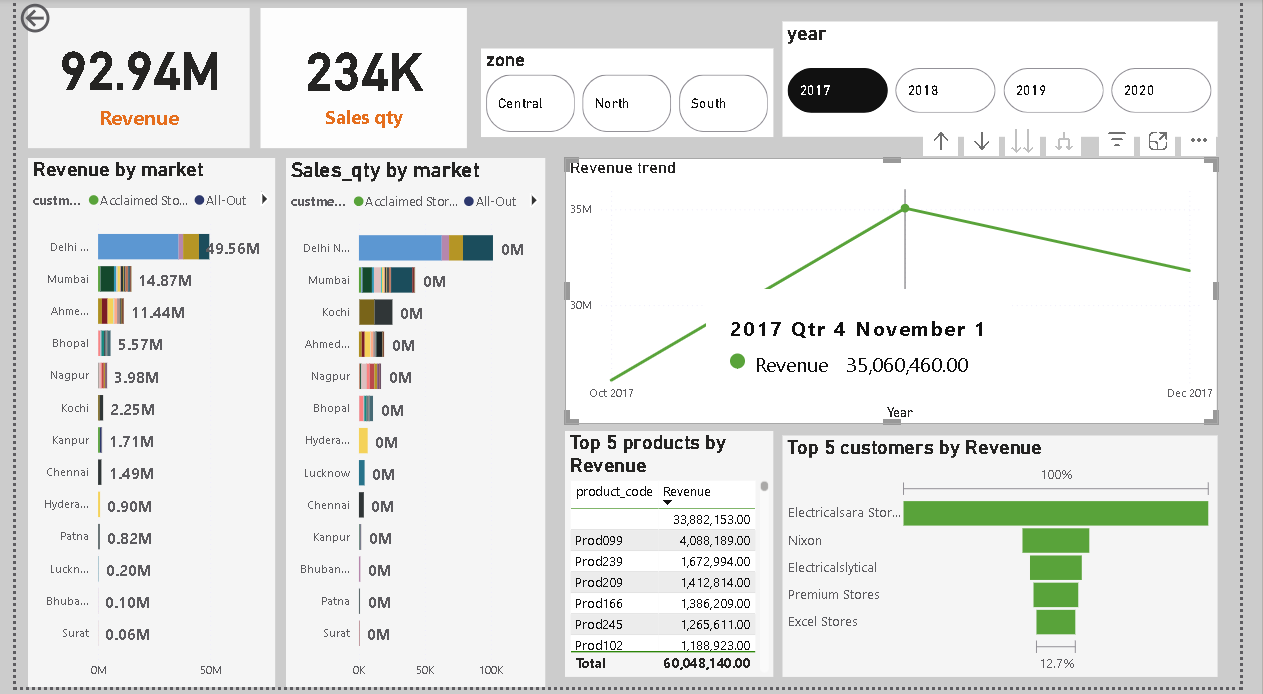

Layout of this report page (visuals, bound fields, positions):
{"tool":"powerbi","page":{"name":"Page 1","canvas":[1280,720],"ordinal":0},"visuals":[{"type":"card","fields":{"Values":["basemeasures.Revenue"]},"box":[12.6,9.5,232.1,146.8],"z":0},{"type":"card","fields":{"Values":["basemeasures.Sales qty"]},"box":[255.8,9.5,216.3,146.8],"z":1000},{"type":"barChart","title":"Revenue by market","fields":{"Y":["basemeasures.Revenue"],"Category":["sales markets.markets_name"],"Series":["sales customers.custmer_name"]},"box":[12.6,165.8,259,554.2],"z":2000},{"type":"barChart","title":"Sales_qty by market","fields":{"Category":["sales markets.markets_name"],"Series":["sales customers.custmer_name"],"Y":["Sum(sales transactions.sales_qty)"]},"box":[282.6,165.8,271.6,554.2],"z":3000},{"type":"advancedSlicerVisual","fields":{"Values":["sales date.year"]},"box":[802.2,23.5,455.2,120.9],"z":4000},{"type":"advancedSlicerVisual","fields":{"Values":["sales markets.zone"]},"box":[486.6,51.8,306.1,92.6],"z":5000},{"type":"funnel","title":"Top 5 customers by Revenue","fields":{"Category":["sales customers.custmer_name"],"Y":["basemeasures.Revenue"]},"box":[802.2,456.8,455.2,252.7],"z":6000},{"type":"tableEx","title":"Top 5 products by Revenue","fields":{"Values":["sales products.product_code","basemeasures.Revenue"]},"box":[574.5,452.1,218.2,257.4],"z":7000},{"type":"lineChart","title":"Revenue trend","fields":{"Y":["basemeasures.Revenue"],"Category":["sales date.cy_date.Variation.Date Hierarchy.Year","sales date.cy_date.Variation.Date Hierarchy.Quarter","sales date.cy_date.Variation.Date Hierarchy.Month","sales date.cy_date.Variation.Date Hierarchy.Day"]},"box":[574.7,165.8,682.1,277.9],"z":8000},{"type":"actionButton","box":[0,0,100,40],"z":9000}]}

Visuals, with their boxes in screenshot pixels (x1, y1, x2, y2), scaled from the page's 1280x720 canvas onto the 1263x694 screenshot:
card - basemeasures.Revenue: {"x1": 12, "y1": 9, "x2": 241, "y2": 151}
card - basemeasures.Sales qty: {"x1": 252, "y1": 9, "x2": 466, "y2": 151}
"Revenue by market" barChart: {"x1": 12, "y1": 160, "x2": 268, "y2": 693}
"Sales_qty by market" barChart: {"x1": 279, "y1": 160, "x2": 547, "y2": 693}
advancedSlicerVisual - sales date.year: {"x1": 792, "y1": 23, "x2": 1241, "y2": 139}
advancedSlicerVisual - sales markets.zone: {"x1": 480, "y1": 50, "x2": 782, "y2": 139}
"Top 5 customers by Revenue" funnel: {"x1": 792, "y1": 440, "x2": 1241, "y2": 684}
"Top 5 products by Revenue" tableEx: {"x1": 567, "y1": 436, "x2": 782, "y2": 684}
"Revenue trend" lineChart: {"x1": 567, "y1": 160, "x2": 1240, "y2": 428}
actionButton: {"x1": 0, "y1": 0, "x2": 99, "y2": 39}
